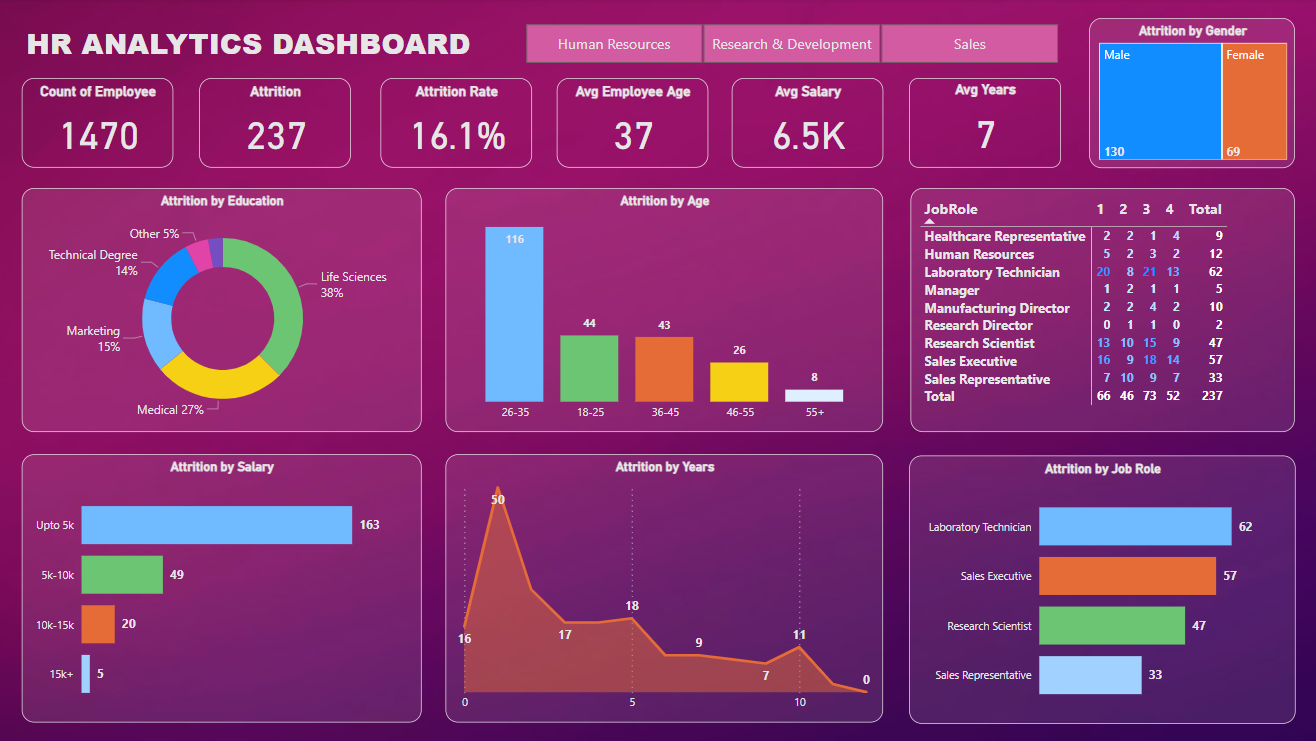

Layout of this report page (visuals, bound fields, positions):
{"tool":"powerbi","page":{"name":"Page 1","canvas":[1500,850],"ordinal":0},"visuals":[{"type":"card","title":"Count of Employee","fields":{"Values":["CountNonNull(HR_Analytics.EmpID)"]},"box":[27.2,90.2,170.2,100.4],"z":0},{"type":"card","title":"Attrition Rate","fields":{"Values":["HR_Analytics.AttritionRate"]},"box":[430.7,90.2,170.2,100.4],"z":1000},{"type":"card","title":"Avg Employee Age","fields":{"Values":["Avg(HR_Analytics.Age)"]},"box":[628.1,90.2,170.2,100.4],"z":2000},{"type":"card","title":"Attrition","fields":{"Values":["Sum(HR_Analytics.AttritionCount)"]},"box":[226.4,90.2,170.2,100.4],"z":3000},{"type":"card","title":"Avg Salary","fields":{"Values":["Avg(HR_Analytics.MonthlyIncome)"]},"box":[825.6,90.2,170.2,100.4],"z":4000},{"type":"card","title":"Avg Years","fields":{"Values":["Avg(HR_Analytics.YearsAtCompany)"]},"box":[1024.8,90.2,170.2,100.4],"z":5000},{"type":"donutChart","title":"Attrition by Education","fields":{"Category":["HR_Analytics.EducationField"],"Y":["Sum(HR_Analytics.AttritionCount)"]},"box":[26.6,214.1,449.4,274.1],"z":6000},{"type":"columnChart","title":"Attrition by Age","fields":{"Y":["Sum(HR_Analytics.AttritionCount)"],"Category":["HR_Analytics.AgeGroup"]},"box":[503.2,214.1,491.9,274.1],"z":7000},{"type":"pivotTable","title":"Attrition by Job Role","fields":{"Values":["Sum(HR_Analytics.AttritionCount)"],"Rows":["HR_Analytics.JobRole"],"Columns":["HR_Analytics.JobSatisfaction"]},"box":[1025.8,214.1,432.4,274.1],"z":8000},{"type":"barChart","title":"Attrition by Salary","fields":{"Category":["HR_Analytics.SalarySlab"],"Y":["Sum(HR_Analytics.AttritionCount)"]},"box":[26.9,513.1,449.4,301.3],"z":9000},{"type":"barChart","title":"Attrition by Job Role","fields":{"Y":["Sum(HR_Analytics.AttritionCount)"],"Category":["HR_Analytics.JobRole"]},"box":[1024.1,513.7,434.1,301.3],"z":10000},{"type":"areaChart","title":"Attrition by Years","fields":{"Category":["HR_Analytics.YearsAtCompany"],"Y":["Sum(HR_Analytics.AttritionCount)"]},"box":[503.5,513.1,491.9,301.3],"z":11000},{"type":"treemap","title":"Attrition by Gender","fields":{"Values":["Sum(HR_Analytics.AttritionCount)"],"Group":["HR_Analytics.Gender"]},"box":[1227.3,22.1,231.5,168.5],"z":12000},{"type":"slicer","fields":{"Values":["HR_Analytics.Department"]},"box":[567.8,22.5,647.9,57.6],"z":13000},{"type":"textbox","box":[27.2,22.1,527.7,74.9],"z":14000}]}

Visuals, with their boxes in screenshot pixels (x1, y1, x2, y2), scaled from the page's 1500x850 canvas onto the 1316x741 screenshot:
"Count of Employee" card: locate(24, 79, 173, 166)
"Attrition Rate" card: locate(378, 79, 527, 166)
"Avg Employee Age" card: locate(551, 79, 700, 166)
"Attrition" card: locate(199, 79, 348, 166)
"Avg Salary" card: locate(724, 79, 874, 166)
"Avg Years" card: locate(899, 79, 1048, 166)
"Attrition by Education" donutChart: locate(23, 187, 418, 426)
"Attrition by Age" columnChart: locate(441, 187, 873, 426)
"Attrition by Job Role" pivotTable: locate(900, 187, 1279, 426)
"Attrition by Salary" barChart: locate(24, 447, 418, 710)
"Attrition by Job Role" barChart: locate(898, 448, 1279, 710)
"Attrition by Years" areaChart: locate(442, 447, 873, 710)
"Attrition by Gender" treemap: locate(1077, 19, 1280, 166)
slicer - HR_Analytics.Department: locate(498, 20, 1067, 70)
textbox: locate(24, 19, 487, 85)
